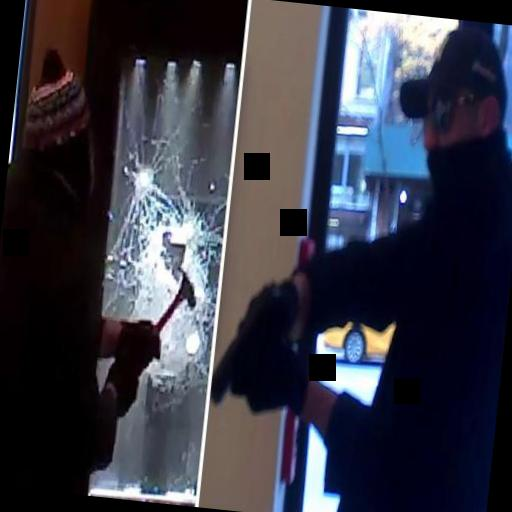Handgun: (210, 253, 306, 422)
